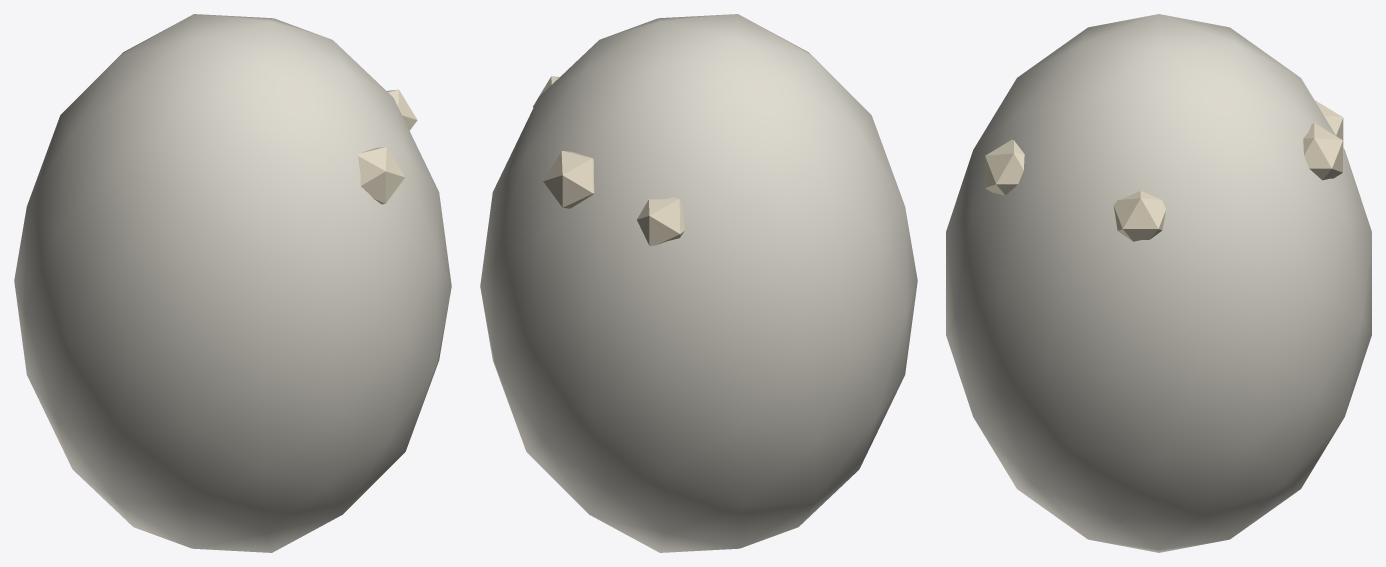
File: dino_egg.glb
The picture shows the model from 3 angles, left to right: view 1: azimuth 30°, elevation 25°; view 2: azimuth 150°, elevation 25°; view 3: azimuth 270°, elevation 25°; orthographic projection.
Visible parts, largest first — view 1: dino_egg; view 2: dino_egg; view 3: dino_egg.
Boxes of the visible parts, bbox=[...] form: dino_egg: bbox=[14, 14, 451, 552]; dino_egg: bbox=[480, 14, 917, 552]; dino_egg: bbox=[946, 14, 1371, 552].
Bounding box in the file's own units: 0.6268 × 0.8149 × 0.6268.
